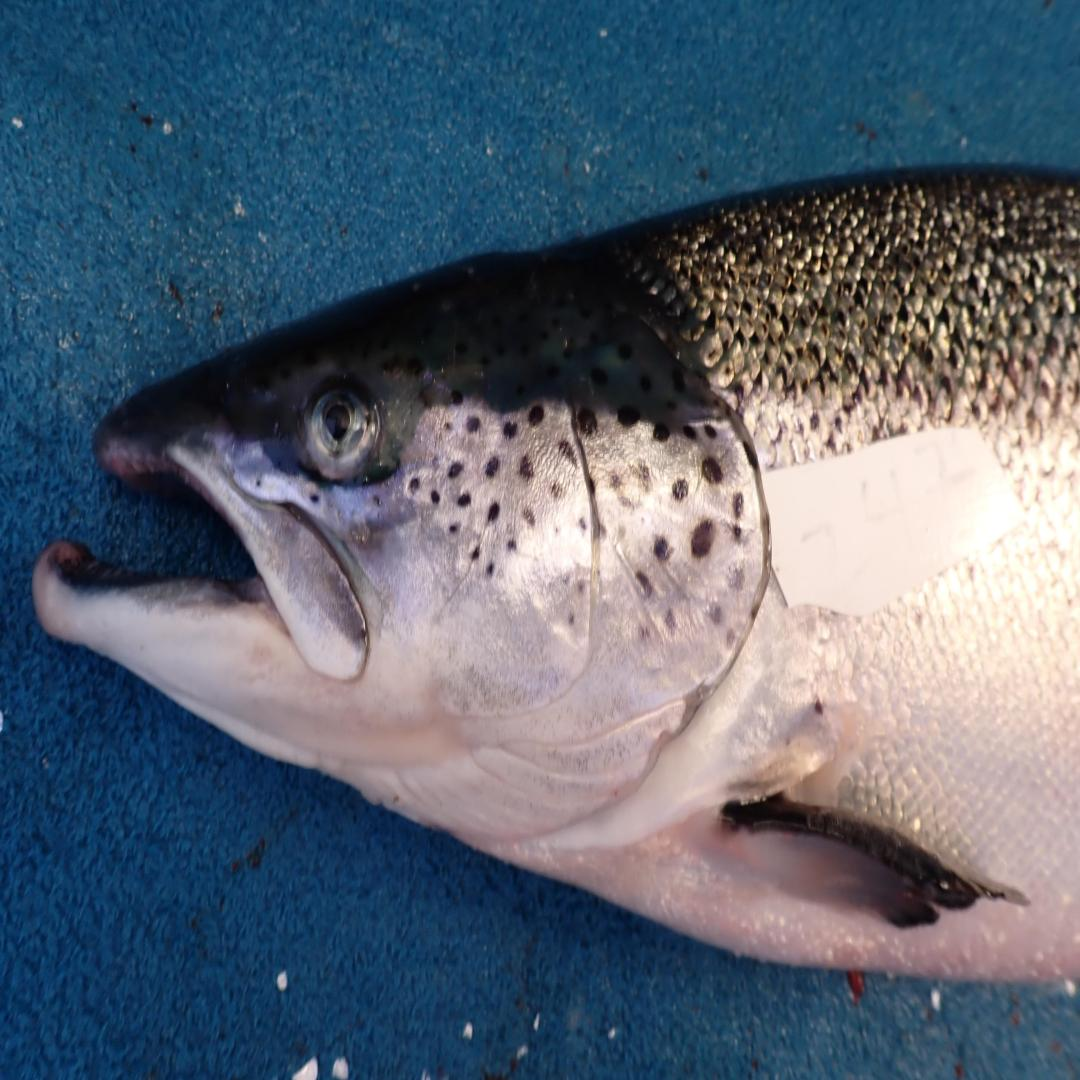spot: (690, 520, 715, 557), (724, 557, 747, 591), (705, 599, 728, 627), (702, 456, 724, 484), (576, 408, 597, 436), (632, 463, 650, 494), (635, 571, 654, 599), (743, 441, 759, 472), (618, 405, 639, 428), (654, 537, 671, 562), (519, 456, 534, 481), (456, 487, 472, 509), (558, 440, 574, 462), (673, 478, 688, 501), (732, 492, 745, 518), (485, 456, 500, 478), (529, 405, 544, 425), (466, 413, 481, 433), (607, 472, 622, 492), (447, 461, 464, 478), (487, 501, 500, 523), (726, 627, 736, 655), (664, 610, 676, 633), (654, 425, 669, 442), (502, 422, 517, 439), (730, 523, 742, 543), (523, 506, 534, 527), (683, 425, 698, 439), (552, 483, 563, 500), (618, 497, 632, 510), (506, 537, 518, 552), (705, 425, 717, 439), (451, 390, 463, 404), (408, 477, 419, 492), (447, 523, 460, 534), (430, 490, 440, 504), (485, 562, 494, 577), (471, 546, 479, 562), (578, 518, 586, 532), (577, 579, 584, 594), (567, 613, 574, 625)
